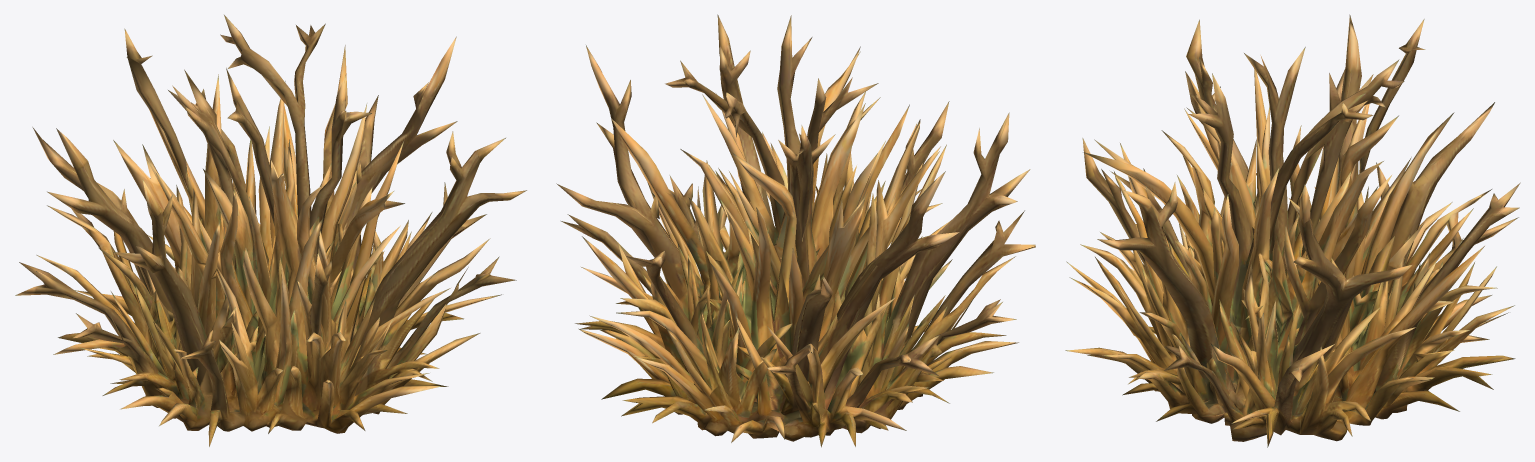
Rendered from Meshy_AI_Gilded_Thicket_0512182925_texture.fbx.
3 renders of one model, left to right at view 1: azimuth 30°, elevation 25°; view 2: azimuth 150°, elevation 25°; view 3: azimuth 270°, elevation 25°, orthographic.
Parts seen in each view (by area): view 1: Mesh_0; view 2: Mesh_0; view 3: Mesh_0.
Part boxes in pixels (x1,y1,x2,y2): Mesh_0: (15, 15, 526, 446); Mesh_0: (556, 14, 1035, 447); Mesh_0: (1065, 14, 1520, 447).
Bounding box in the file's own units: 189 × 140 × 171.
Materials: 1 (1 with a texture image).
